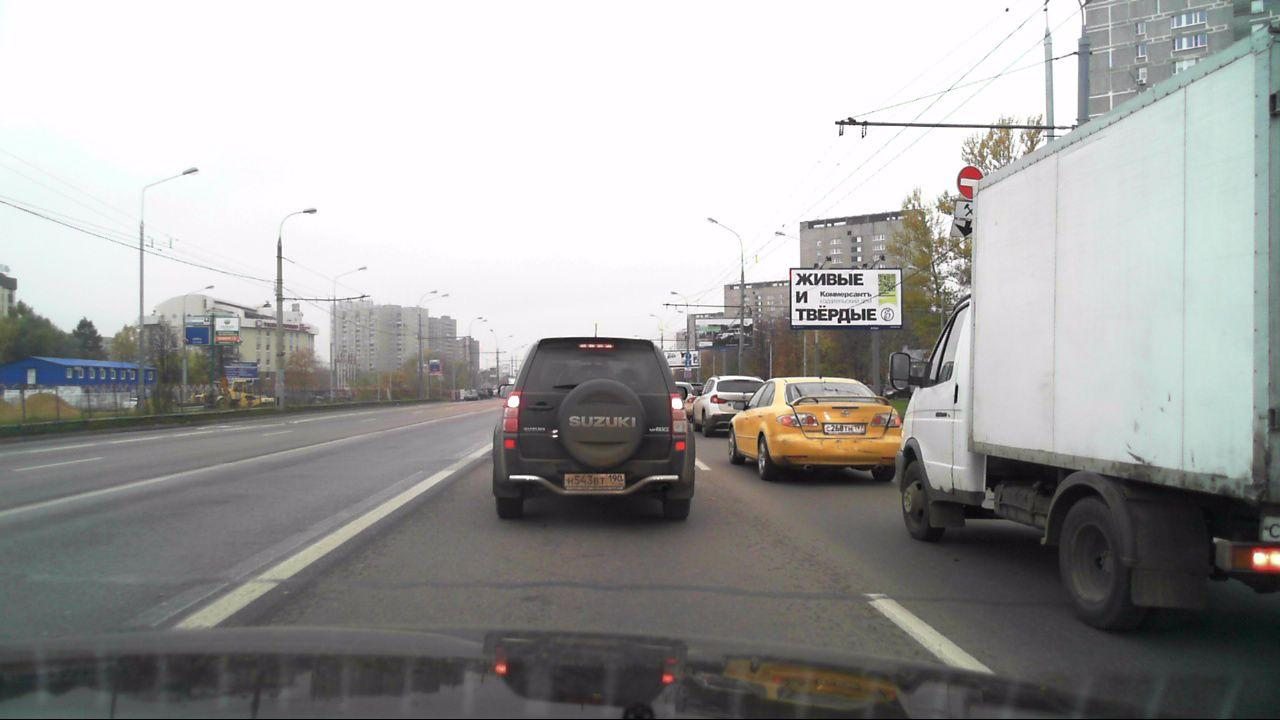3_1: (956, 166, 985, 196)
8_14: (950, 217, 979, 239)
8_5_2: (955, 201, 977, 218)
